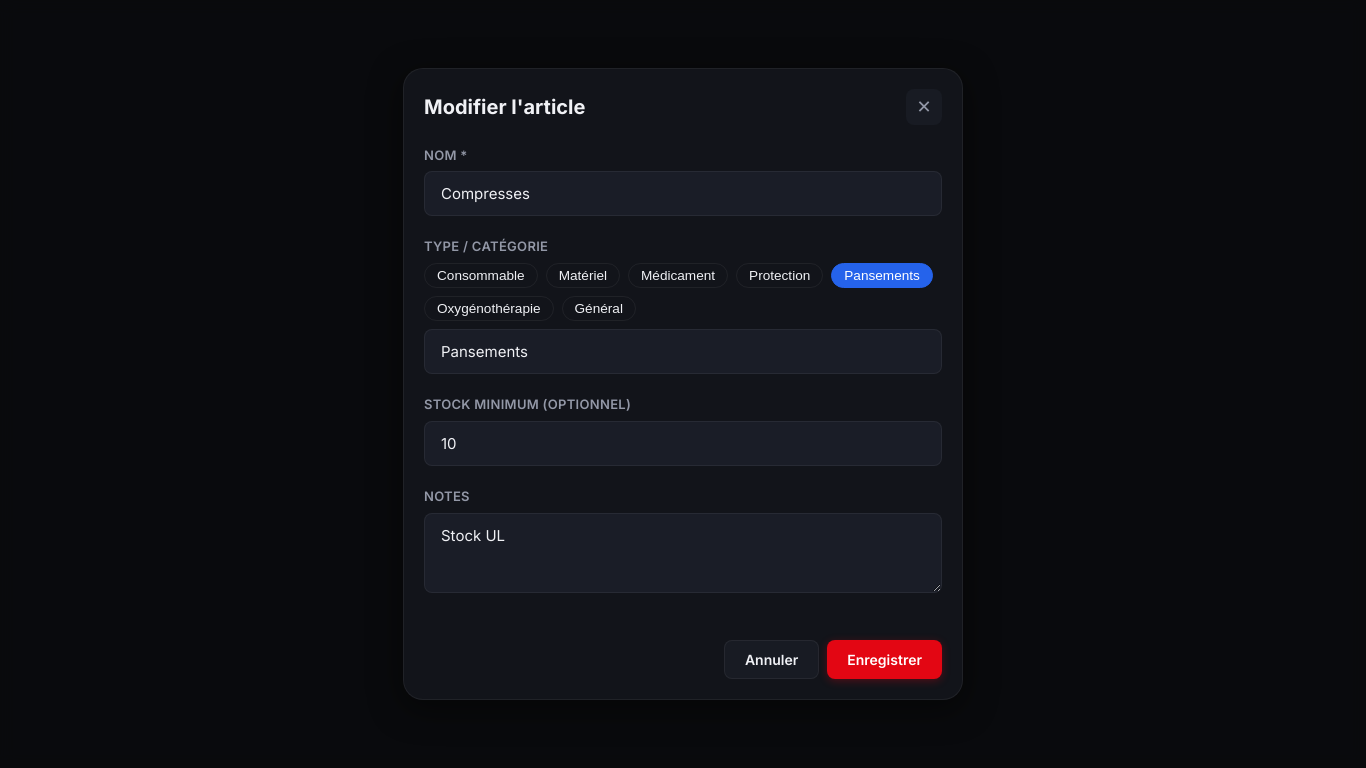
Test: EditItemModal › affiche une erreur si l'API échoue
Click the button "Enregistrer".
click(885, 660)  # box [827,640,942,679]
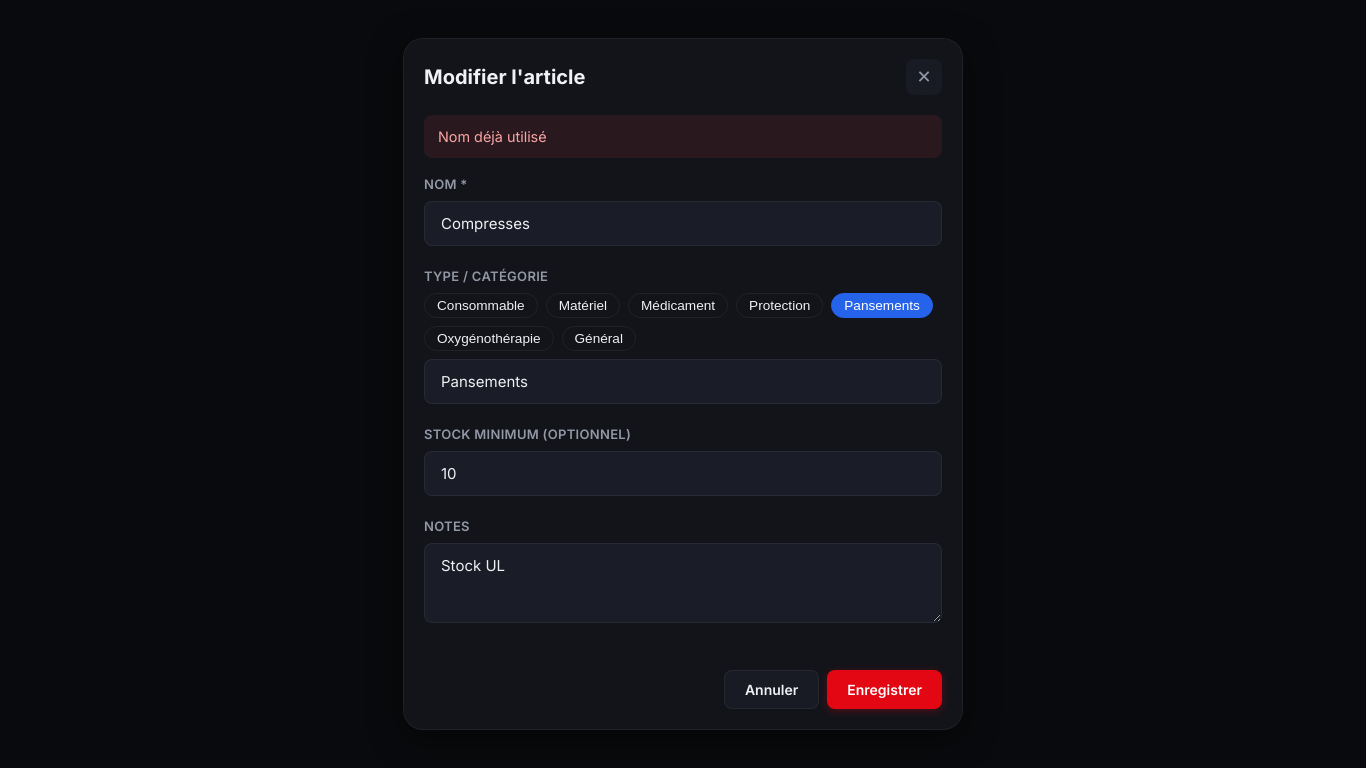
Now the text "Nom déjà utilisé" is shown, box [424,115,942,158]
